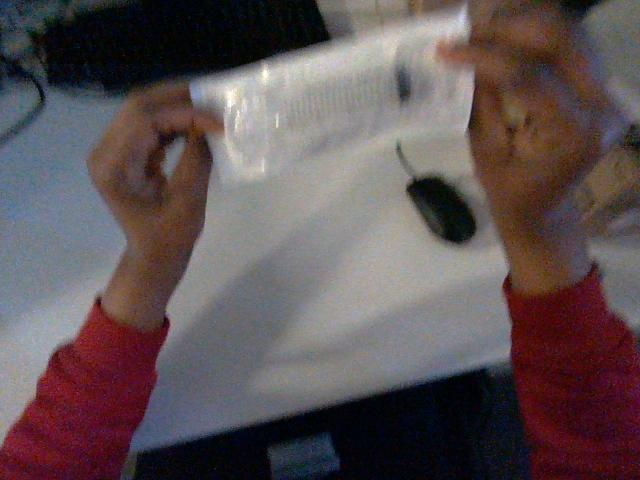syringe: (190, 5, 473, 182)
